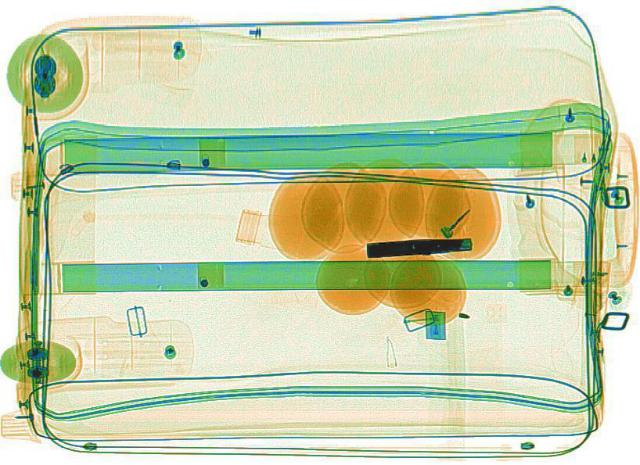Gun: (364, 235, 472, 255)
